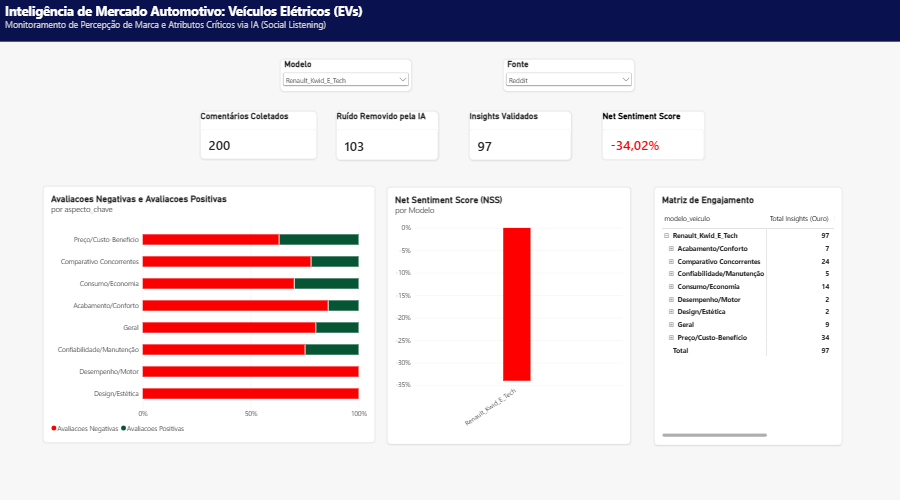

What the dashboard file says about the page in this screenshot:
{"tool":"powerbi","page":{"name":"Página 1","canvas":[1920,1080],"ordinal":0},"visuals":[{"type":"shape","box":[0,0,1920,95],"z":0},{"type":"slicer","fields":{"Values":["dModelo.Modelo"]},"box":[25,111,280,68.6],"z":1000},{"type":"slicer","fields":{"Values":["dFonte.Fonte"]},"box":[376,111,280,68.6],"z":2000},{"type":"cardVisual","title":"Comentários Coletados","fields":{"Data":["_Medidas.Total Volume Bruto"]},"box":[48.9,282.8,249.4,103.3],"z":2001},{"type":"cardVisual","title":"Ruído Removido pela IA","fields":{"Data":["_Medidas.Ruido Descartado"]},"box":[355,282.8,217.5,105],"z":2002},{"type":"cardVisual","title":"Insights Validados","fields":{"Data":["_Medidas.Total Insights (Ouro)"]},"box":[633.5,282.8,217.5,105],"z":2003},{"type":"cardVisual","title":"Net Sentiment Score","fields":{"Data":["_Medidas.Net Sentiment Score (NSS)"]},"box":[916.3,282.8,219,104.2],"z":2004},{"type":"donutChart","fields":{"Y":["_Medidas.Ruido Descartado","_Medidas.Total Insights (Ouro)"]},"box":[48.9,433.7,496.4,340.2],"z":2005},{"type":"hundredPercentStackedBarChart","fields":{"Category":["fAvaliacoes.aspecto_chave"],"Y":["_Medidas.Avaliacoes Negativas","_Medidas.Avaliacoes Positivas"]},"box":[608,433.7,705.5,370.4],"z":2006},{"type":"pivotTable","fields":{"Rows":["fAvaliacoes.modelo_veiculo","fAvaliacoes.aspecto_chave","fAvaliacoes.resumo_insight"],"Values":["Sum(fAvaliacoes.likes)"]},"box":[95.7,803.6,297.6,233.9],"z":2008},{"type":"clusteredColumnChart","fields":{"Category":["dModelo.Modelo"],"Y":["_Medidas.Net Sentiment Score (NSS)"]},"box":[1362.8,433.7,518.7,646.3],"z":2009}]}

Visuals, with their boxes in screenshot pixels (x1, y1, x2, y2), scaled from the page's 1920x1080 canvas onto the 900x500 screenshot:
shape: bbox=(0, 0, 899, 44)
slicer - dModelo.Modelo: bbox=(12, 51, 143, 83)
slicer - dFonte.Fonte: bbox=(176, 51, 308, 83)
"Comentários Coletados" cardVisual: bbox=(23, 131, 140, 179)
"Ruído Removido pela IA" cardVisual: bbox=(166, 131, 268, 180)
"Insights Validados" cardVisual: bbox=(297, 131, 399, 180)
"Net Sentiment Score" cardVisual: bbox=(430, 131, 532, 179)
donutChart - _Medidas.Ruido Descartado x _Medidas.Total Insights (Ouro): bbox=(23, 201, 256, 358)
hundredPercentStackedBarChart - fAvaliacoes.aspecto_chave x _Medidas.Avaliacoes Negativas: bbox=(285, 201, 616, 372)
pivotTable - fAvaliacoes.modelo_veiculo x fAvaliacoes.aspecto_chave: bbox=(45, 372, 184, 480)
clusteredColumnChart - dModelo.Modelo x _Medidas.Net Sentiment Score (NSS): bbox=(639, 201, 882, 499)
